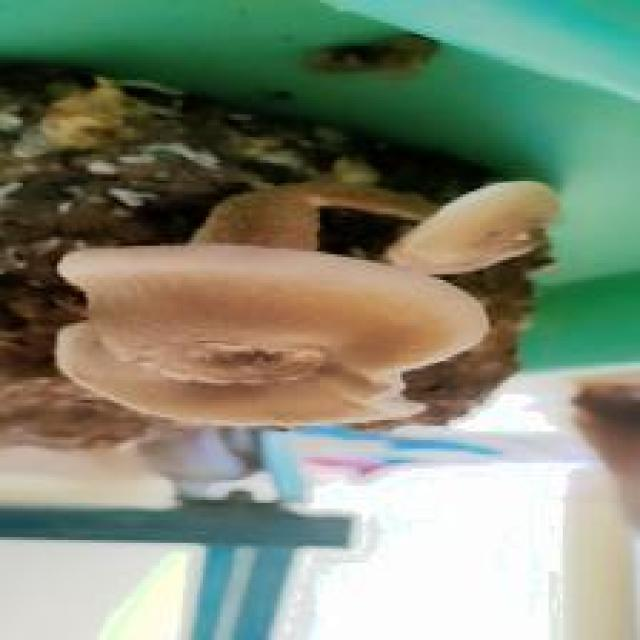death-cap: (51, 237, 492, 429)
